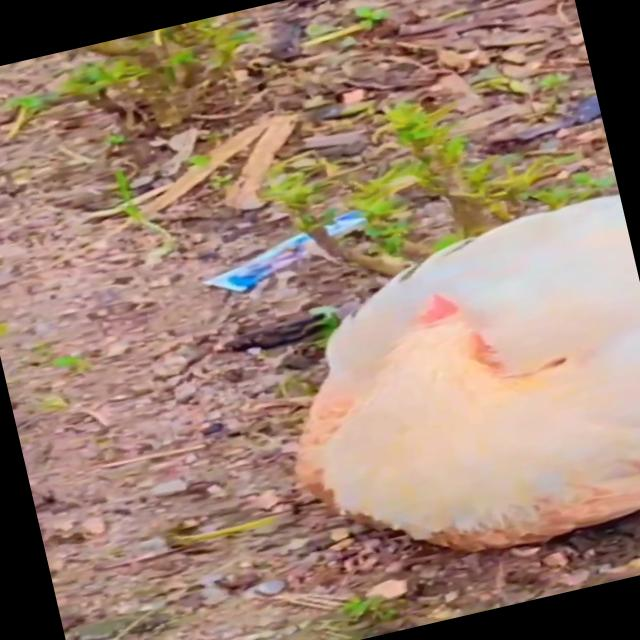sleeping chickens: (249, 177, 640, 599)
